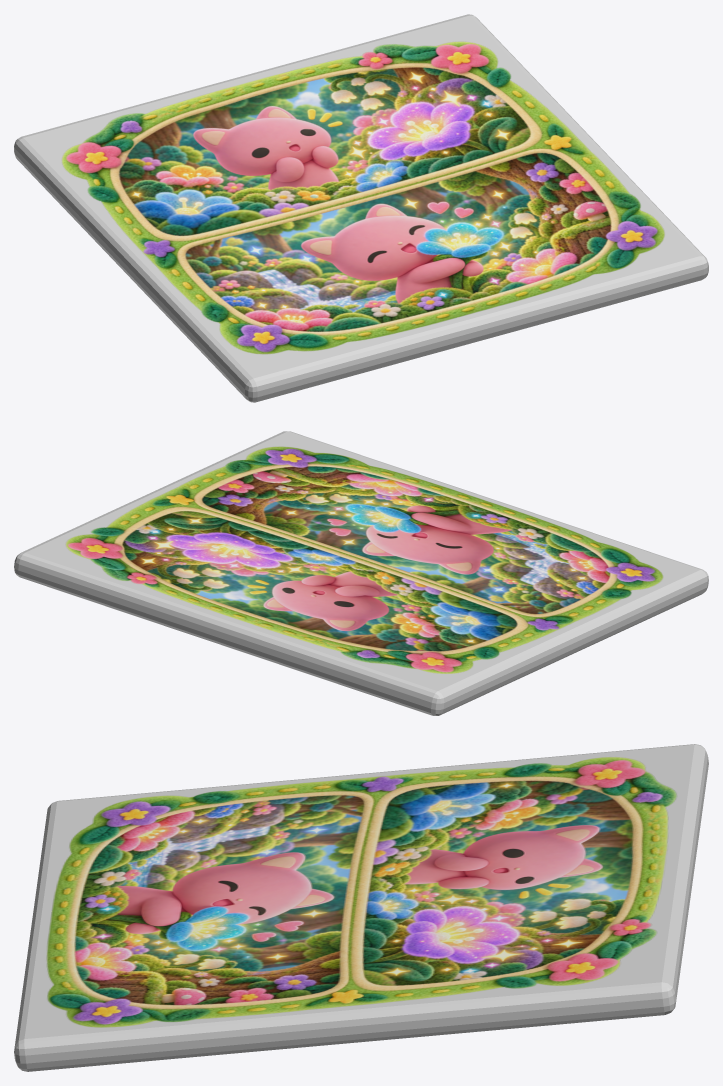
Rendered from memory_6.glb.
3 views of the same model, one above another, from view 1: azimuth 30°, elevation 25°; view 2: azimuth 150°, elevation 25°; view 3: azimuth 270°, elevation 25° (orthographic). The views are drawn at different scales.
Parts seen in each view (by area): view 1: memory_6_page; view 2: memory_6_page; view 3: memory_6_page.
Boxes of the visible parts, x1,y1,x2,y2 form: memory_6_page: (14, 14, 708, 402); memory_6_page: (14, 431, 708, 715); memory_6_page: (14, 744, 708, 1071).
Size of what is drawn, in the model's own units: 0.8323 by 0.1767 by 0.8342.
2 materials, 1 textured.
